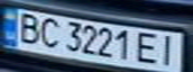1: (112, 27, 136, 62)
2: (78, 21, 100, 56), (96, 25, 115, 60)
3: (60, 19, 84, 53)
B: (12, 10, 45, 44)
C: (36, 16, 63, 48)
E: (133, 29, 163, 65)
I: (154, 34, 184, 66)
